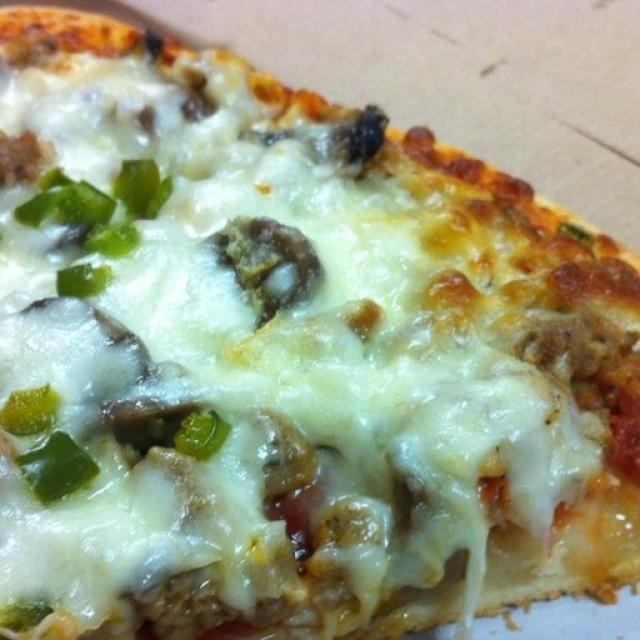Green Pepper: (10, 168, 173, 292), (22, 442, 106, 494), (7, 388, 60, 434), (184, 414, 224, 458)
Mushrooms: (204, 212, 324, 316), (25, 306, 156, 387), (253, 114, 386, 163), (126, 64, 218, 130), (113, 399, 178, 453), (273, 420, 324, 484), (4, 598, 51, 634)
Pizza: (0, 6, 640, 640)
